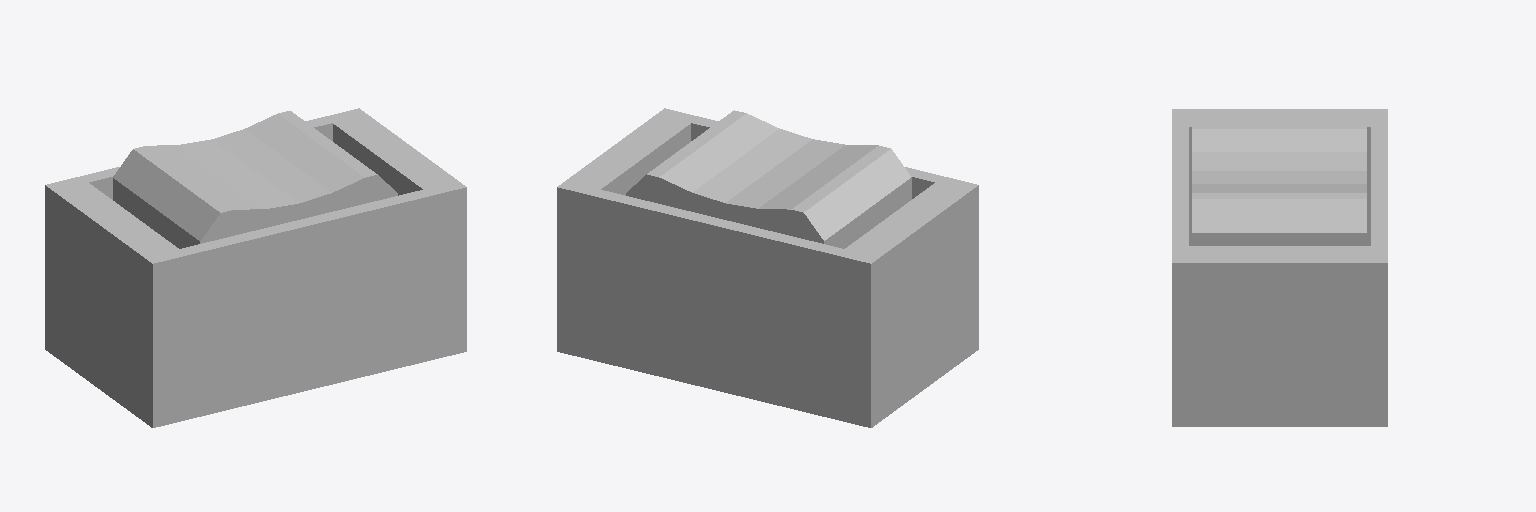
Rendered from switchButton.obj.
3 views of the same model, side by side, from view 1: azimuth 30°, elevation 25°; view 2: azimuth 150°, elevation 25°; view 3: azimuth 270°, elevation 25° (orthographic).
Parts seen in each view (by area): view 1: Cube_Cube.001, Cube.001_Cube.002; view 2: Cube_Cube.001, Cube.001_Cube.002; view 3: Cube_Cube.001, Cube.001_Cube.002.
Boxes of the visible parts, box(x1,y1,x2,y2) form: Cube_Cube.001: box(45, 108, 466, 427); Cube.001_Cube.002: box(113, 111, 397, 248); Cube_Cube.001: box(557, 108, 978, 427); Cube.001_Cube.002: box(626, 110, 911, 248); Cube_Cube.001: box(1172, 109, 1387, 426); Cube.001_Cube.002: box(1192, 123, 1366, 245).
Size of the model in its own units: 4 by 2.3 by 2.38.